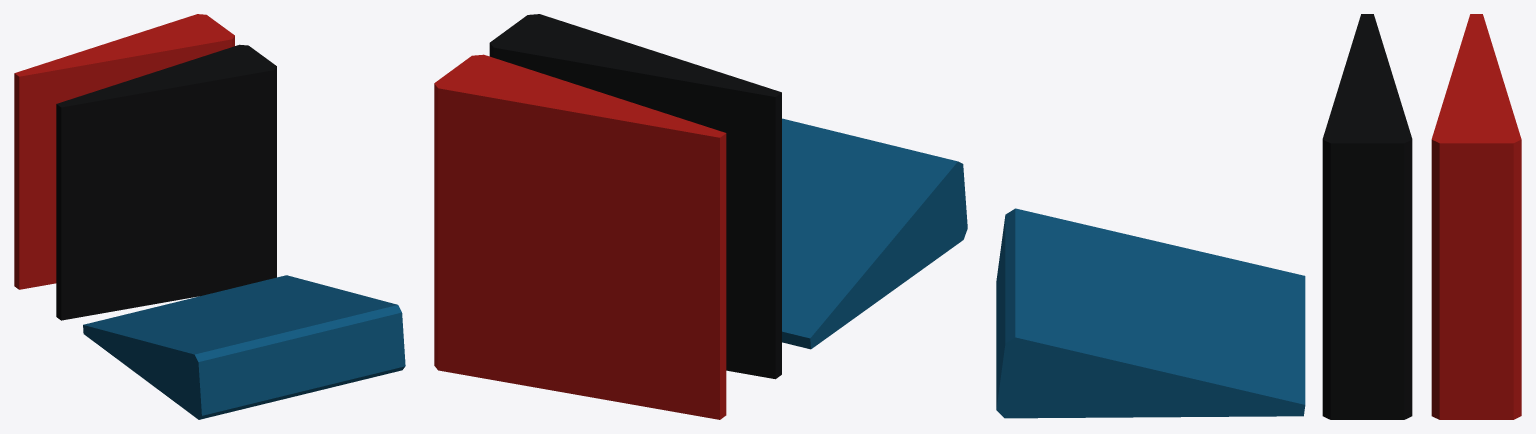
Rendered from Classeur.dae.
The picture shows the model from 3 angles, left to right: view 1: azimuth 30°, elevation 25°; view 2: azimuth 150°, elevation 25°; view 3: azimuth 270°, elevation 25°; orthographic projection. The views are drawn at different scales.
Visible parts, largest first — view 1: pCube27; view 2: pCube27; view 3: pCube27.
Part boxes in pixels (x1=…): pCube27: x1=14, y1=14, x2=405, y2=419; pCube27: x1=434, y1=14, x2=967, y2=419; pCube27: x1=996, y1=14, x2=1521, y2=419.
Bounding box in the file's own units: 11.02 × 11 × 18.92.
